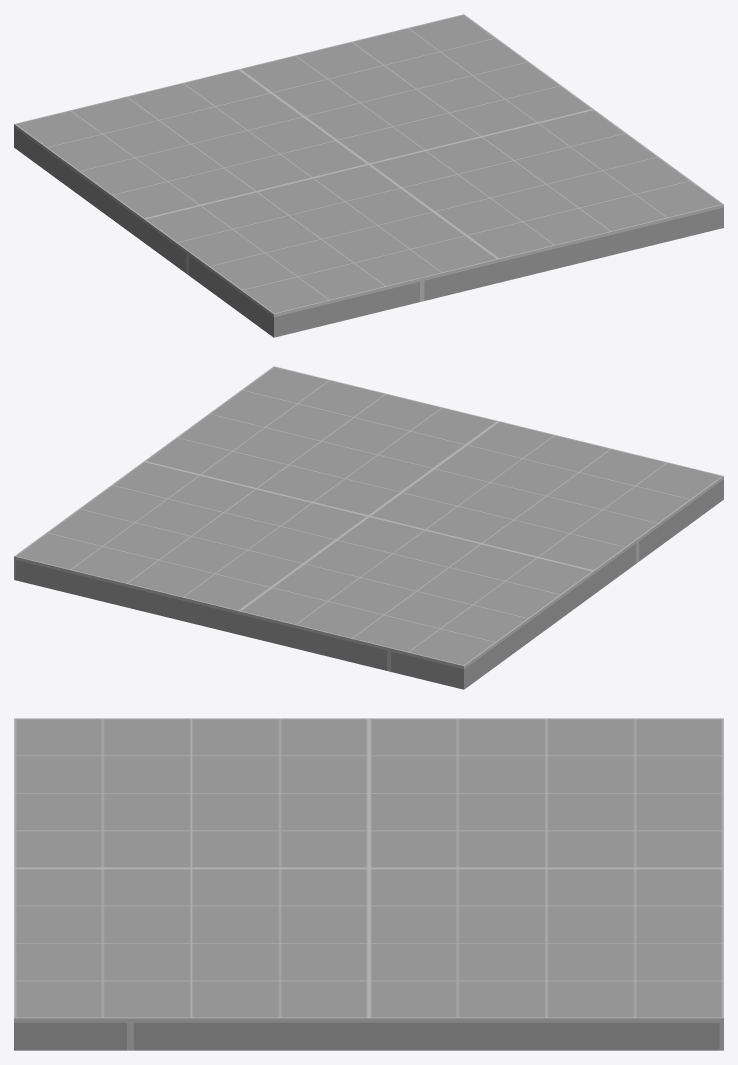
Rendered from proto_floor_01.fbx.
3 views of the same model, one above another, from view 1: azimuth 30°, elevation 25°; view 2: azimuth 150°, elevation 25°; view 3: azimuth 270°, elevation 25° (orthographic). The views are drawn at different scales.
Parts seen in each view (by area): view 1: proto_floor_01; view 2: proto_floor_01; view 3: proto_floor_01.
Boxes of the visible parts, bbox=[...] form: proto_floor_01: bbox=[14, 14, 723, 337]; proto_floor_01: bbox=[14, 366, 723, 689]; proto_floor_01: bbox=[14, 718, 723, 1050].
Bounding box in the file's own units: 200 × 10 × 200.
